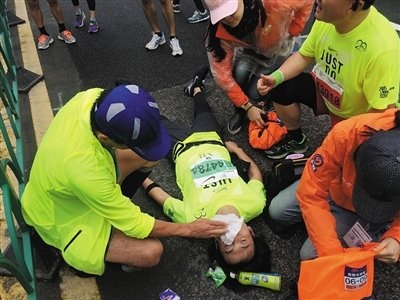falling: (139, 64, 270, 272)
